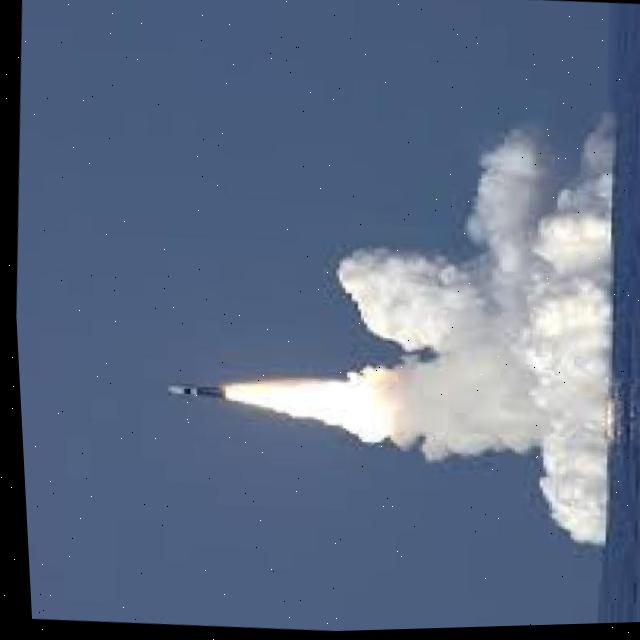missile: (161, 373, 229, 407)
